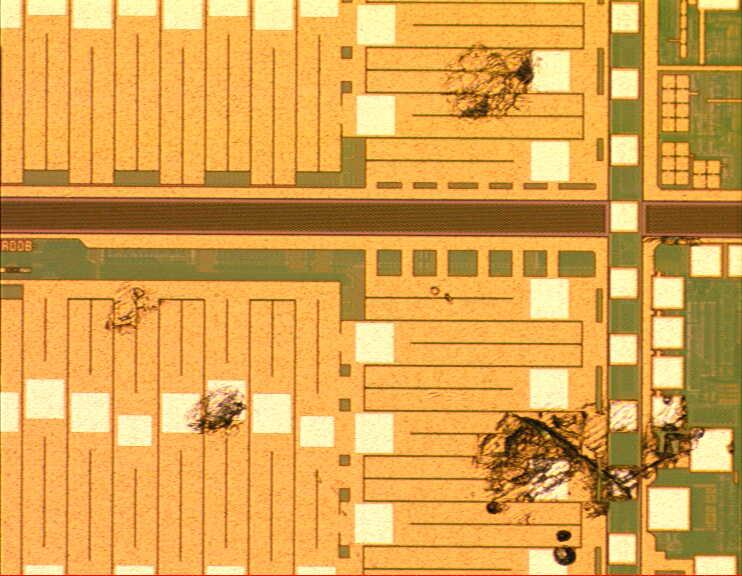SCRATCH: (101, 39, 737, 572)
